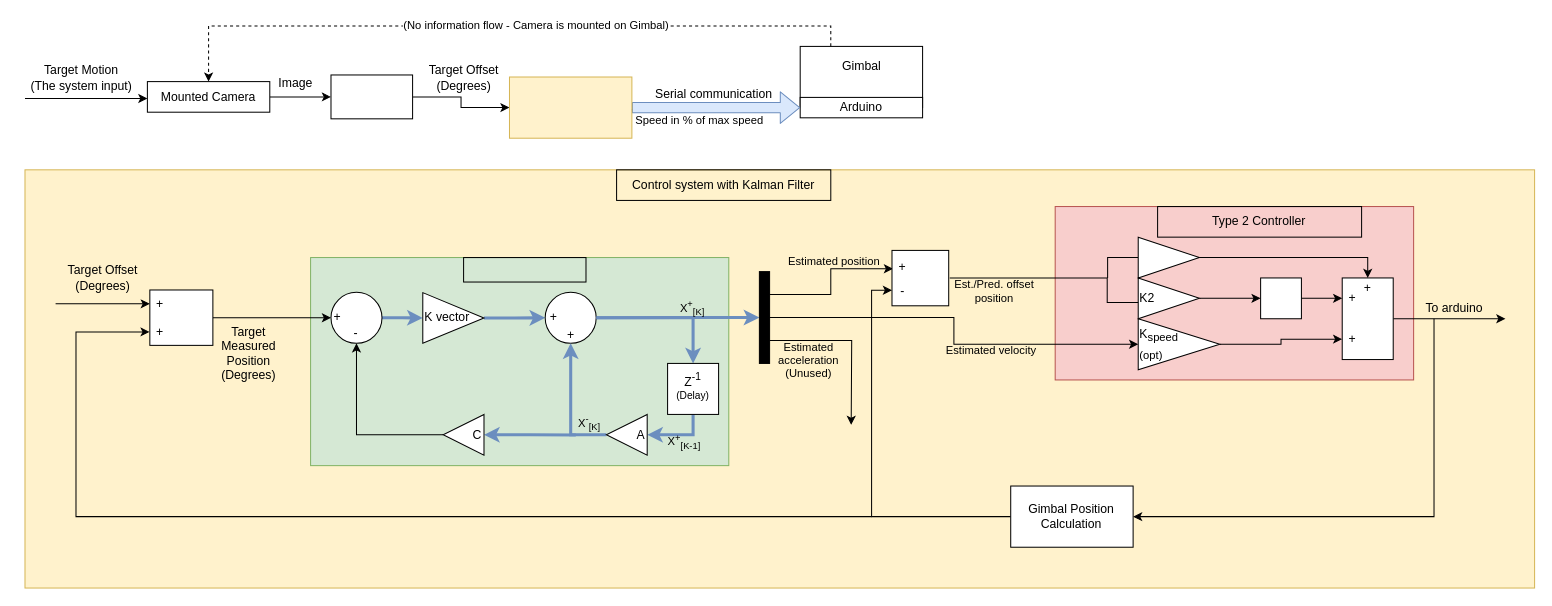
The diagram is 1552 pixels wide and 606 high, and some of its shapes have lost their labels. Here are the shapes that lost their labels. From the top down, the box of each, then its label:
(330, 74, 413, 119): Image Processing
(508, 76, 632, 138): Control System
(463, 257, 586, 282): Kalman Filter
(1137, 236, 1199, 278): K1
(1260, 277, 1301, 319): 1/s
